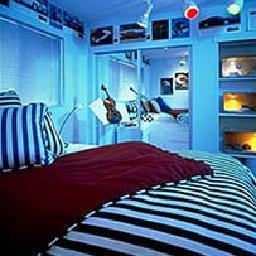Cama: (14, 145, 249, 252)
